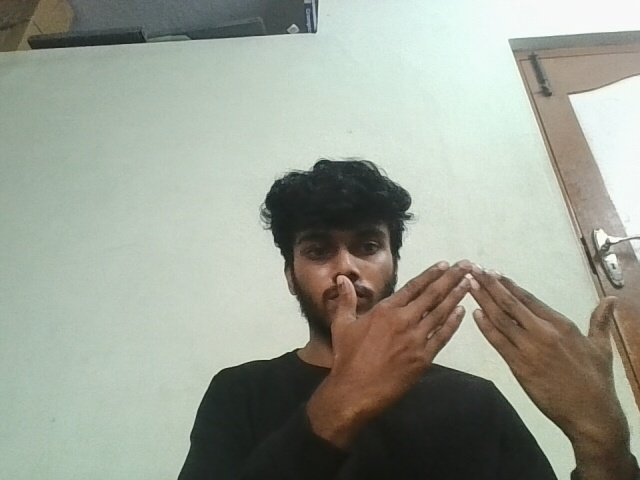thankyou: (319, 251, 636, 446)
